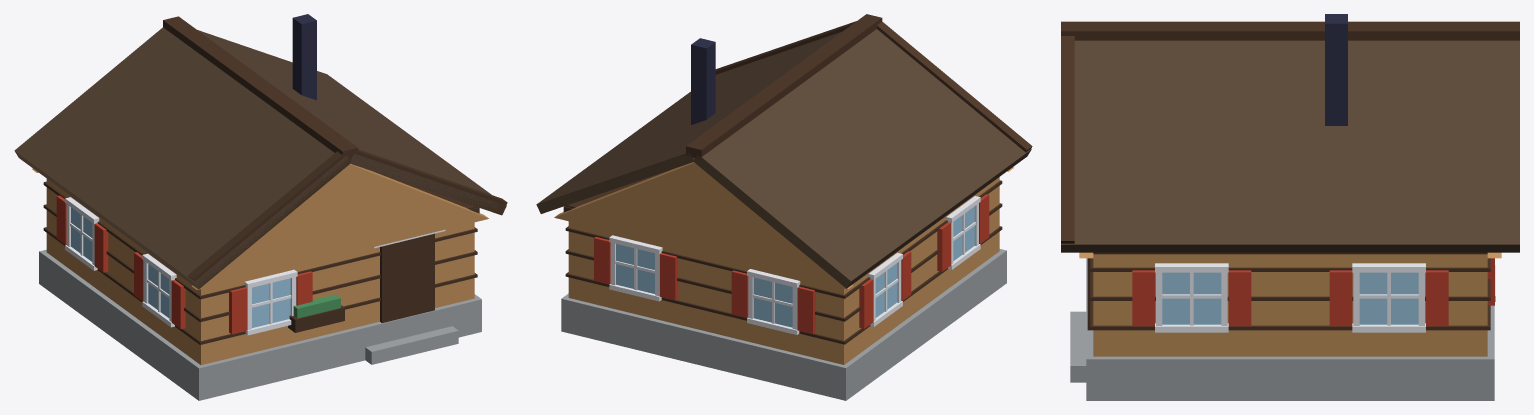
File: house-1x1-1f-chalet-a.glb
3 views of the same model, side by side, from view 1: azimuth 30°, elevation 25°; view 2: azimuth 150°, elevation 25°; view 3: azimuth 270°, elevation 25° (orthographic). The views are drawn at different scales.
Visible parts, largest first — view 1: house-1x1-1f-chalet-a; view 2: house-1x1-1f-chalet-a; view 3: house-1x1-1f-chalet-a.
Boxes of the visible parts, x1=… form: house-1x1-1f-chalet-a: x1=14, y1=14, x2=507, y2=400; house-1x1-1f-chalet-a: x1=536, y1=14, x2=1032, y2=400; house-1x1-1f-chalet-a: x1=1061, y1=14, x2=1519, y2=400.
Size of the model in its own units: 1.01 by 0.8 by 1.
Materials: 1 (1 with a texture image).
